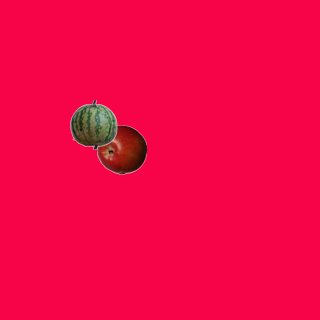Apple Braeburn: (96, 124, 146, 174)
Watermelon: (68, 99, 118, 149)
